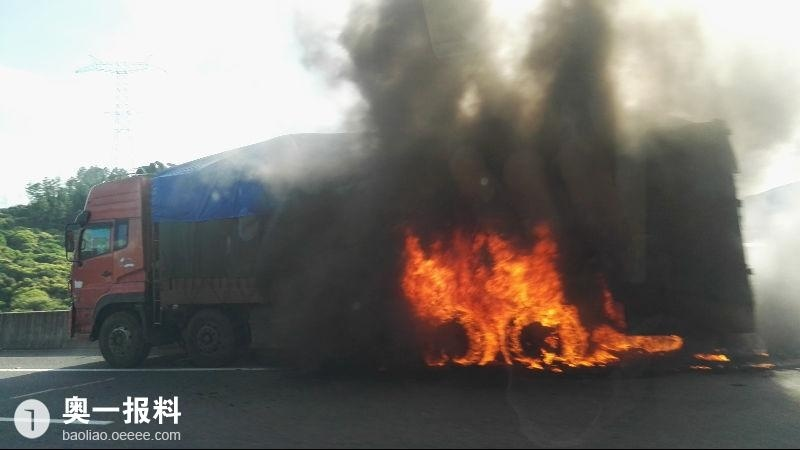fire: (398, 222, 714, 369)
